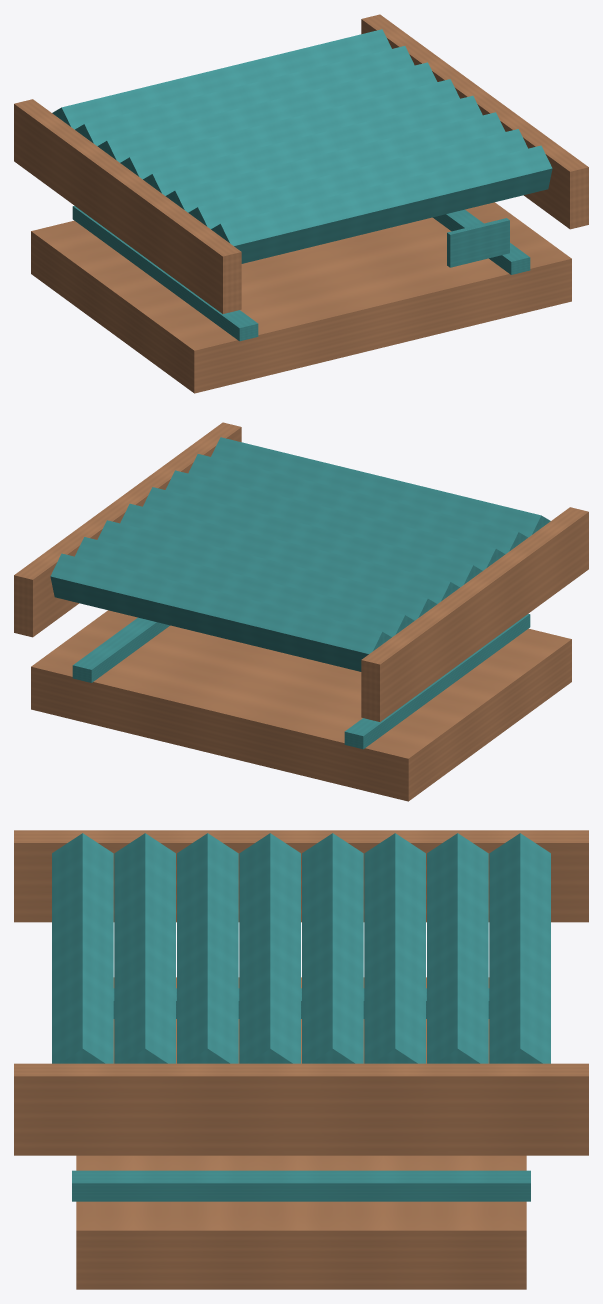
File: atlas100-s098-a02.lod1.glb
3 renders of one model, top to bottom at view 1: azimuth 30°, elevation 25°; view 2: azimuth 150°, elevation 25°; view 3: azimuth 270°, elevation 25°, orthographic. The views are drawn at different scales.
Visible parts, largest first — view 1: atlas100-s098-a02:part-000, atlas100-s098-a02:part-011, atlas100-s098-a02:part-010, atlas100-s098-a02:part-008, atlas100-s098-a02:part-005, atlas100-s098-a02:part-004, atlas100-s098-a02:part-006, atlas100-s098-a02:part-003, atlas100-s098-a02:part-007, atlas100-s098-a02:part-009, atlas100-s098-a02:part-012, atlas100-s098-a02:part-001 (+2 smaller); view 2: atlas100-s098-a02:part-000, atlas100-s098-a02:part-011, atlas100-s098-a02:part-003, atlas100-s098-a02:part-005, atlas100-s098-a02:part-008, atlas100-s098-a02:part-007, atlas100-s098-a02:part-009, atlas100-s098-a02:part-004, atlas100-s098-a02:part-006, atlas100-s098-a02:part-010, atlas100-s098-a02:part-012, atlas100-s098-a02:part-001 (+1 smaller); view 3: atlas100-s098-a02:part-012, atlas100-s098-a02:part-000, atlas100-s098-a02:part-002, atlas100-s098-a02:part-011, atlas100-s098-a02:part-003, atlas100-s098-a02:part-004, atlas100-s098-a02:part-005, atlas100-s098-a02:part-006, atlas100-s098-a02:part-007, atlas100-s098-a02:part-008, atlas100-s098-a02:part-009, atlas100-s098-a02:part-010.
Boxes of the visible parts, x1,y1,x2,y2 form: atlas100-s098-a02:part-000: (31, 202, 571, 393); atlas100-s098-a02:part-011: (14, 99, 241, 313); atlas100-s098-a02:part-010: (211, 145, 552, 263); atlas100-s098-a02:part-008: (165, 112, 505, 212); atlas100-s098-a02:part-005: (97, 62, 437, 162); atlas100-s098-a02:part-004: (75, 46, 414, 146); atlas100-s098-a02:part-006: (120, 79, 459, 179); atlas100-s098-a02:part-003: (52, 29, 391, 129); atlas100-s098-a02:part-007: (143, 95, 482, 195); atlas100-s098-a02:part-009: (188, 129, 527, 228); atlas100-s098-a02:part-012: (361, 14, 588, 229); atlas100-s098-a02:part-001: (72, 206, 258, 341); atlas100-s098-a02:part-000: (31, 610, 571, 801); atlas100-s098-a02:part-011: (361, 507, 588, 721); atlas100-s098-a02:part-003: (50, 553, 391, 671); atlas100-s098-a02:part-005: (97, 520, 437, 620); atlas100-s098-a02:part-008: (165, 470, 505, 570); atlas100-s098-a02:part-007: (143, 487, 482, 587); atlas100-s098-a02:part-009: (188, 454, 527, 554); atlas100-s098-a02:part-004: (75, 537, 414, 636); atlas100-s098-a02:part-006: (120, 503, 459, 603); atlas100-s098-a02:part-010: (211, 437, 550, 537); atlas100-s098-a02:part-012: (14, 422, 241, 637); atlas100-s098-a02:part-001: (344, 614, 530, 749); atlas100-s098-a02:part-012: (14, 1063, 588, 1155); atlas100-s098-a02:part-000: (76, 977, 526, 1289); atlas100-s098-a02:part-002: (72, 1170, 530, 1201); atlas100-s098-a02:part-011: (14, 830, 588, 922); atlas100-s098-a02:part-003: (489, 833, 550, 1063); atlas100-s098-a02:part-004: (427, 833, 488, 1063); atlas100-s098-a02:part-005: (364, 833, 425, 1063); atlas100-s098-a02:part-006: (302, 833, 363, 1063); atlas100-s098-a02:part-007: (239, 833, 300, 1063); atlas100-s098-a02:part-008: (177, 833, 238, 1063); atlas100-s098-a02:part-009: (114, 833, 175, 1063); atlas100-s098-a02:part-010: (52, 833, 113, 1063).
Size of the model in its own units: 2.4 by 0.98 by 2.3.
2 materials, 2 textured.
